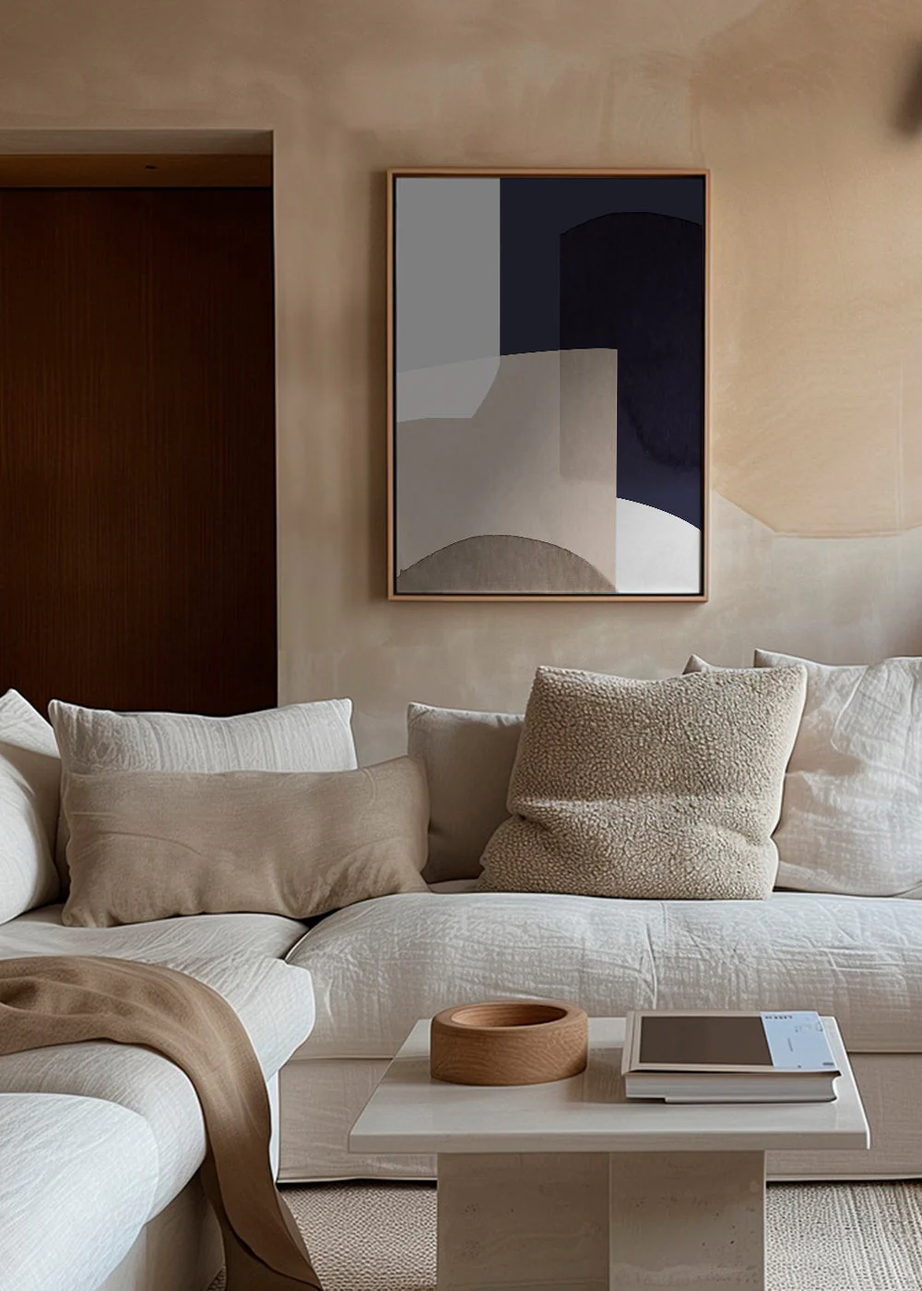painting: (383, 166, 710, 604)
